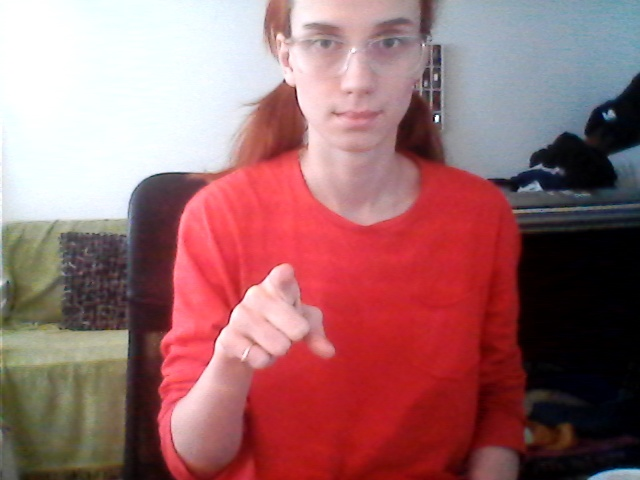ty: (207, 251, 345, 382)
